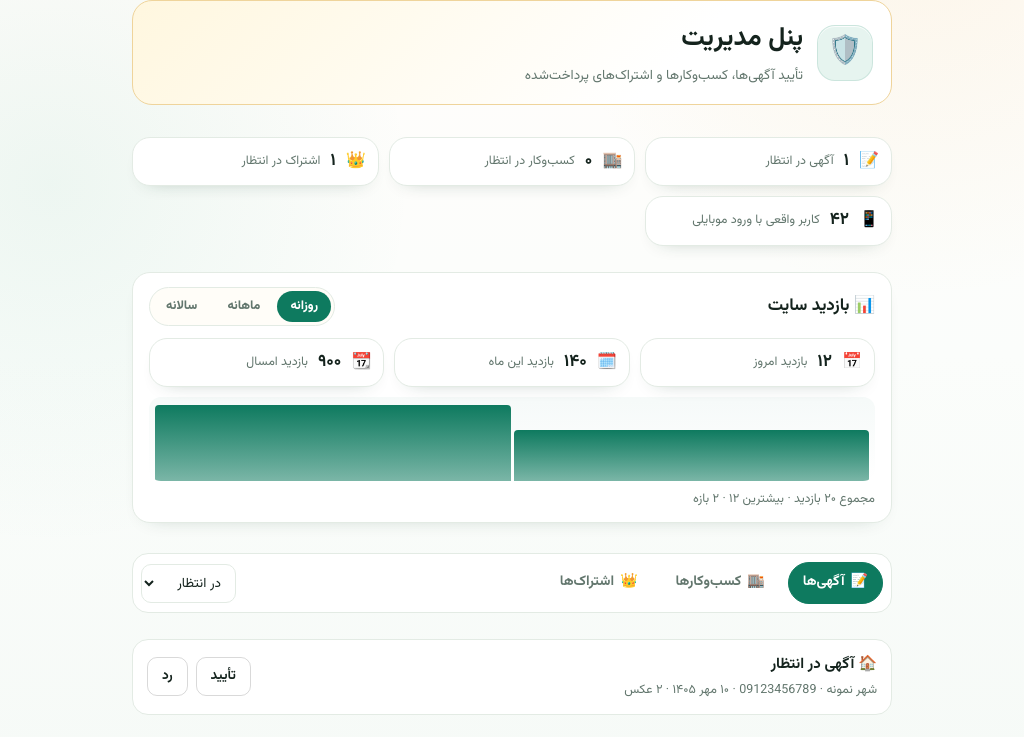
Scenario: AdminPanel › switches to the subscriptions tab and activates a paid plan
The width and height of the screenshot is (1024, 737).
Click the tab with test id "tab-subscriptions".
click(599, 583)  # box [545,562,653,604]
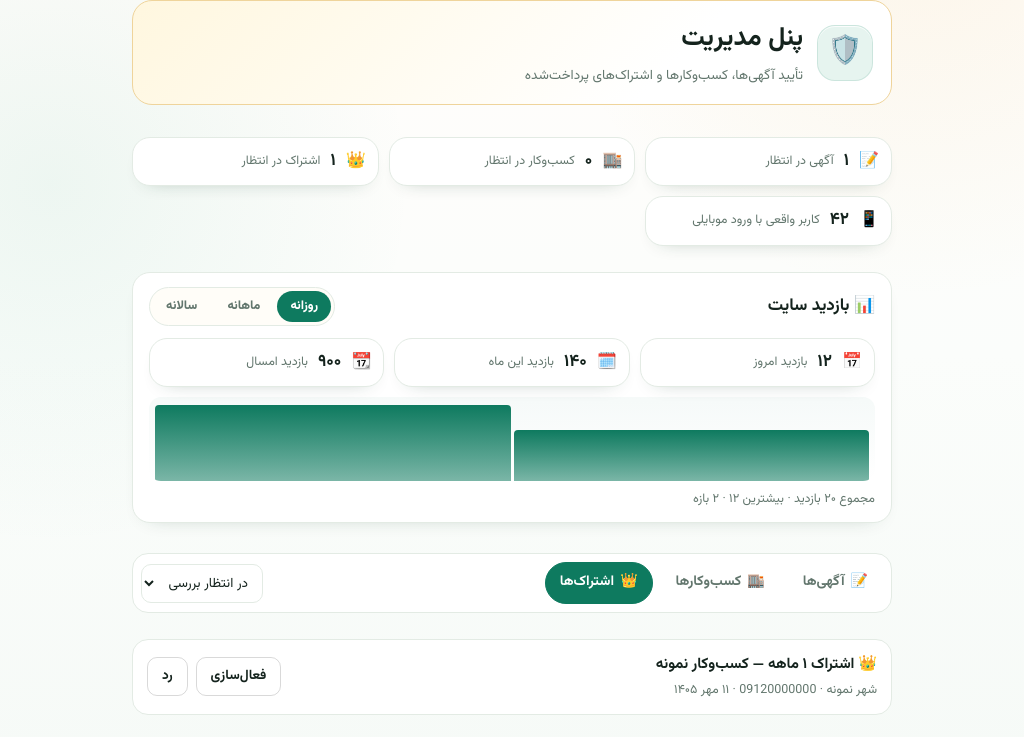
Expected: the list item with test id "row-44" shows "اشتراک ۱ ماهه", [132,639,892,715]
Click the button with test id "approve-44".
click(238, 677)  # box [196,657,281,696]
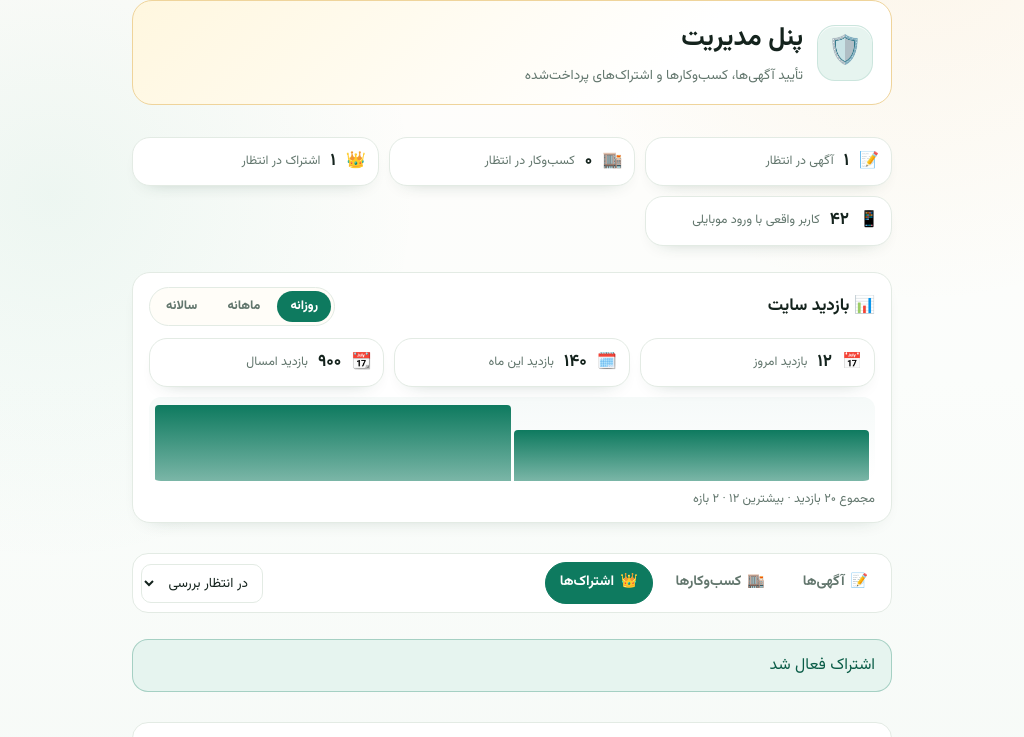
Expected: the message reads "اشتراک فعال شد", [770,653,875,678]
